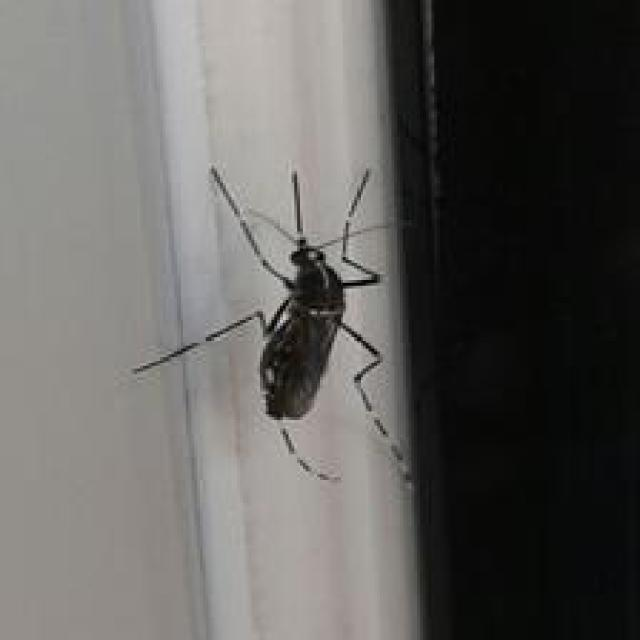Aedes albopictus: (132, 161, 414, 493)
